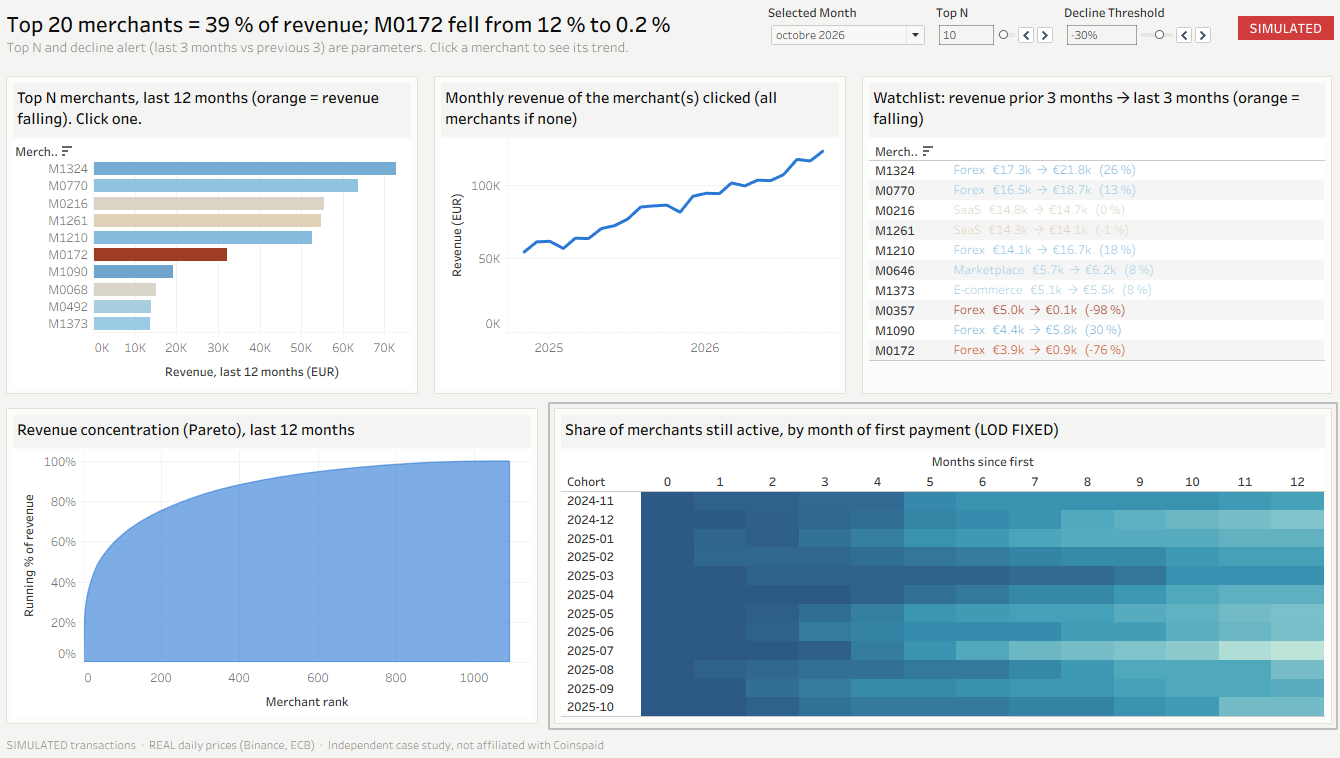

What the dashboard file says about the page in this screenshot:
{"tool":"tableau","page":{"name":"3 Merchants","canvas":[1366,768],"ordinal":2},"visuals":[{"type":"text","box":[16,8,758,66]},{"type":"parameter","param":"[Parameters].[Selected Month]","box":[782,12,160,56]},{"type":"parameter","param":"[Parameters].[Top N]","box":[950,12,120,56]},{"type":"parameter","param":"[Parameters].[Decline Threshold]","box":[1078,12,150,56]},{"type":"text","box":[1250,22,100,28]},{"type":"worksheet","title":"Top merchants","mark":"Bar","rows":["merchant_id"],"cols":["revenue_eur"],"box":[16,80,420,326]},{"type":"worksheet","title":"Merchant trend","mark":"Line","rows":["revenue_eur"],"cols":["month"],"box":[444,80,420,326]},{"type":"worksheet","title":"Decline watchlist","mark":"Text","rows":["merchant_id"],"box":[872,80,478,326]},{"type":"worksheet","title":"Pareto","mark":"Area","rows":["Running % of revenue"],"cols":["Merchant rank"],"box":[16,412,540,324]},{"type":"worksheet","title":"Cohorts","mark":"Square","rows":["Cohort"],"cols":["Months since first"],"box":[564,412,786,324]},{"type":"text","box":[16,742,1334,22]}]}

Visuals, with their boxes in screenshot pixels (x1, y1, x2, y2), scaled from the page's 1366x768 canvas onto the 1340x758 screenshot:
text: x1=16, y1=8, x2=759, y2=73
parameter: x1=767, y1=12, x2=924, y2=67
parameter: x1=932, y1=12, x2=1050, y2=67
parameter: x1=1057, y1=12, x2=1205, y2=67
text: x1=1226, y1=22, x2=1324, y2=49
"Top merchants" worksheet (Bar marks): x1=16, y1=79, x2=428, y2=401
"Merchant trend" worksheet (Line marks): x1=436, y1=79, x2=848, y2=401
"Decline watchlist" worksheet (Text marks): x1=855, y1=79, x2=1324, y2=401
"Pareto" worksheet (Area marks): x1=16, y1=407, x2=545, y2=726
"Cohorts" worksheet (Square marks): x1=553, y1=407, x2=1324, y2=726
text: x1=16, y1=732, x2=1324, y2=754
